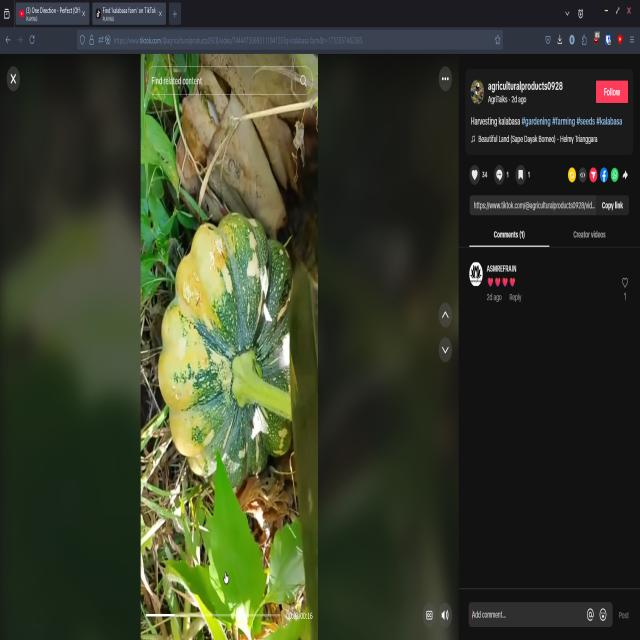squash: (157, 207, 293, 496)
